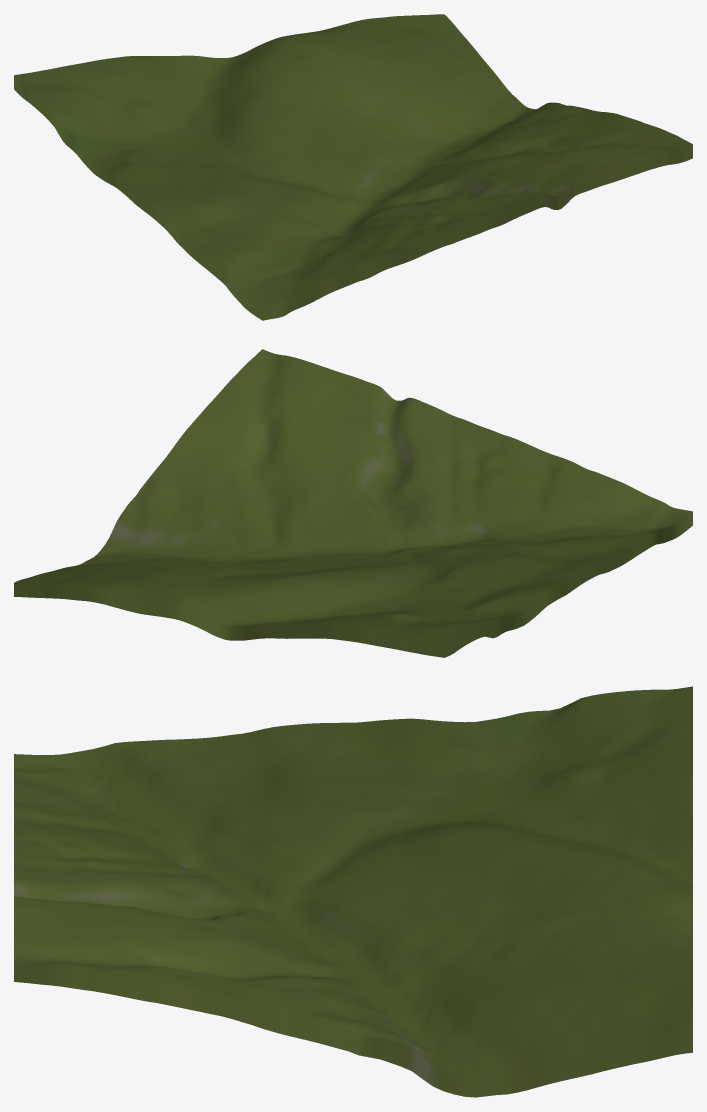
The model's file is terrain_7_-8.glb.
3 views of the same model, one above another, from view 1: azimuth 30°, elevation 25°; view 2: azimuth 150°, elevation 25°; view 3: azimuth 270°, elevation 25° (orthographic). The views are drawn at different scales.
Visible parts, largest first — view 1: terrain_7_-8; view 2: terrain_7_-8; view 3: terrain_7_-8.
Boxes of the visible parts, x1,y1,x2,y2 form: terrain_7_-8: (14,14,692,320); terrain_7_-8: (14,349,692,657); terrain_7_-8: (14,686,692,1097).
Bounding box in the file's own units: 256 × 56.13 × 256.
